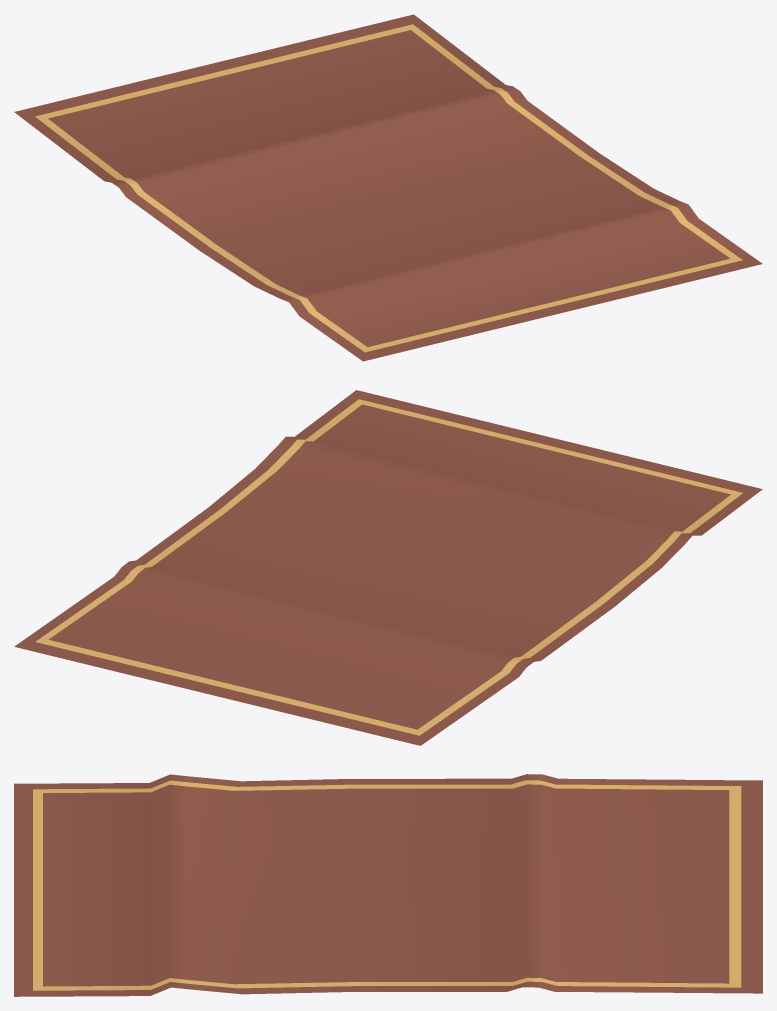
The model's file is carpet.glb.
The picture shows the model from 3 angles, top to bottom: view 1: azimuth 30°, elevation 25°; view 2: azimuth 150°, elevation 25°; view 3: azimuth 270°, elevation 25°; orthographic projection. The views are drawn at different scales.
Visible parts, largest first — view 1: Carpet_1; view 2: Carpet_1; view 3: Carpet_1.
Boxes of the visible parts, left/top/right/bottom form: Carpet_1: left=14, top=14, right=762, bottom=361; Carpet_1: left=14, top=390, right=762, bottom=745; Carpet_1: left=14, top=774, right=762, bottom=996.
Bounding box in the file's own units: 2.13 × 0.0366 × 3.09.
